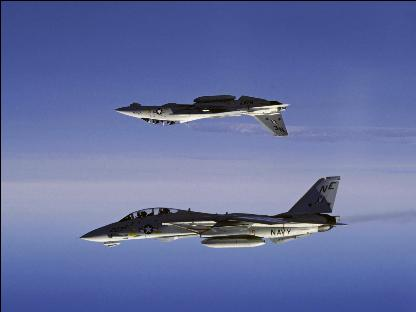EF2000: (75, 175, 348, 246), (112, 93, 290, 135)
